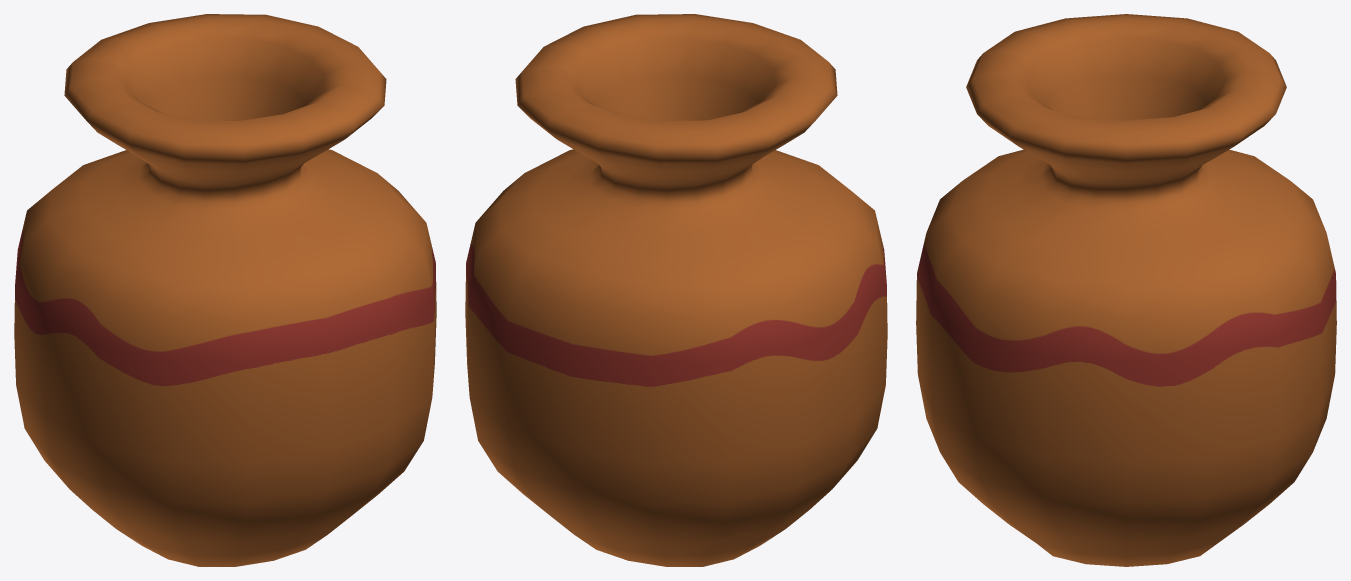
File: RedVaseS.fbx
3 views of the same model, side by side, from view 1: azimuth 30°, elevation 25°; view 2: azimuth 150°, elevation 25°; view 3: azimuth 270°, elevation 25° (orthographic).
Parts seen in each view (by area): view 1: Cube.004; view 2: Cube.004; view 3: Cube.004.
Part boxes in pixels (box(x1,y1,x2,y2)): Cube.004: box(14, 14, 436, 566); Cube.004: box(465, 14, 887, 566); Cube.004: box(916, 14, 1336, 566).
Bounding box in the file's own units: 182 × 219 × 182.
